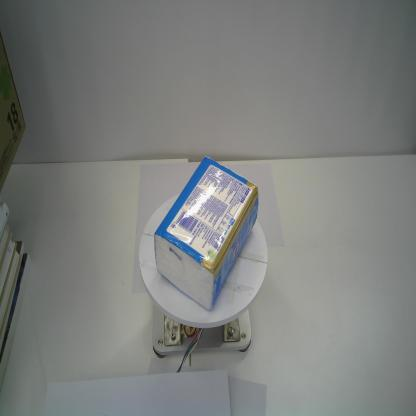Tissue: (153, 154, 261, 311)
